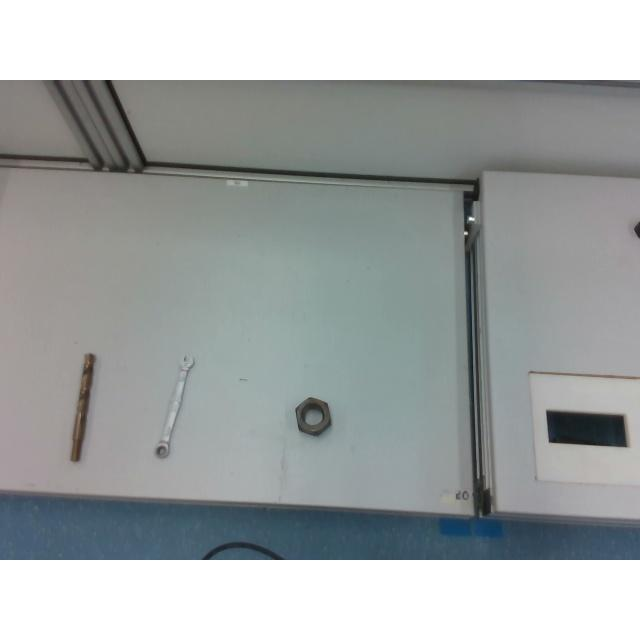Drill: (67, 353, 96, 463)
M30: (292, 395, 332, 437)
Wrench: (154, 356, 193, 456)
